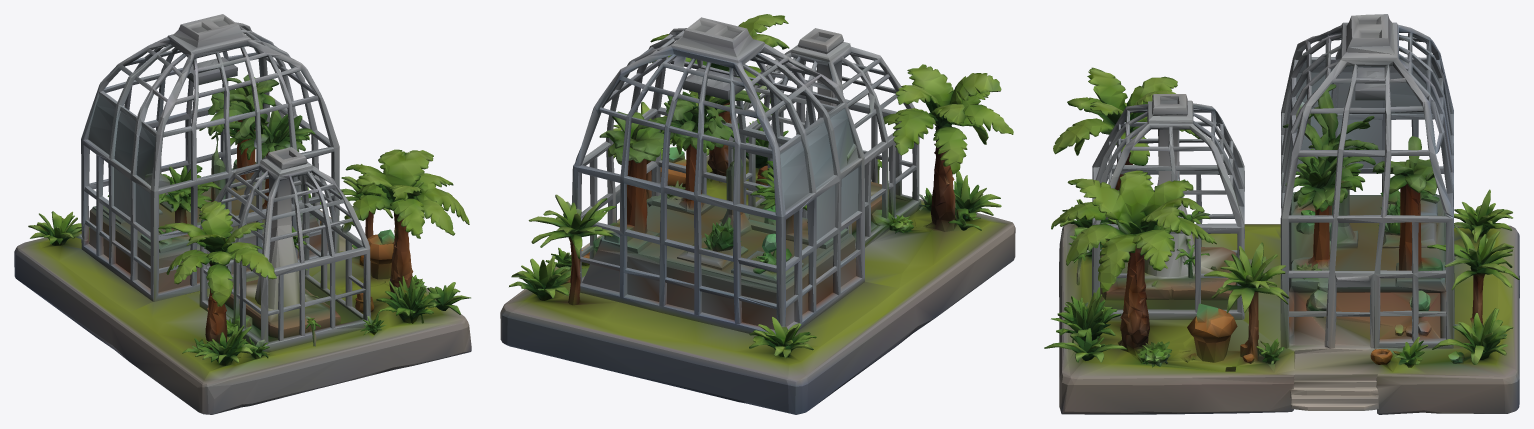
File: greenhouse.glb
3 renders of one model, left to right at view 1: azimuth 30°, elevation 25°; view 2: azimuth 150°, elevation 25°; view 3: azimuth 270°, elevation 25°, orthographic. The views are drawn at different scales.
Parts seen in each view (by area): view 1: tripo_node_aaa2d7c3-ea03-429e-8ed6-70d6d7dd69fe; view 2: tripo_node_aaa2d7c3-ea03-429e-8ed6-70d6d7dd69fe; view 3: tripo_node_aaa2d7c3-ea03-429e-8ed6-70d6d7dd69fe.
Boxes of the visible parts, left/top/right/bottom form: tripo_node_aaa2d7c3-ea03-429e-8ed6-70d6d7dd69fe: left=14, top=14, right=471, bottom=414; tripo_node_aaa2d7c3-ea03-429e-8ed6-70d6d7dd69fe: left=500, top=14, right=1015, bottom=414; tripo_node_aaa2d7c3-ea03-429e-8ed6-70d6d7dd69fe: left=1044, top=14, right=1519, bottom=414.
Bounding box in the file's own units: 0.8671 × 0.7258 × 0.9996.
